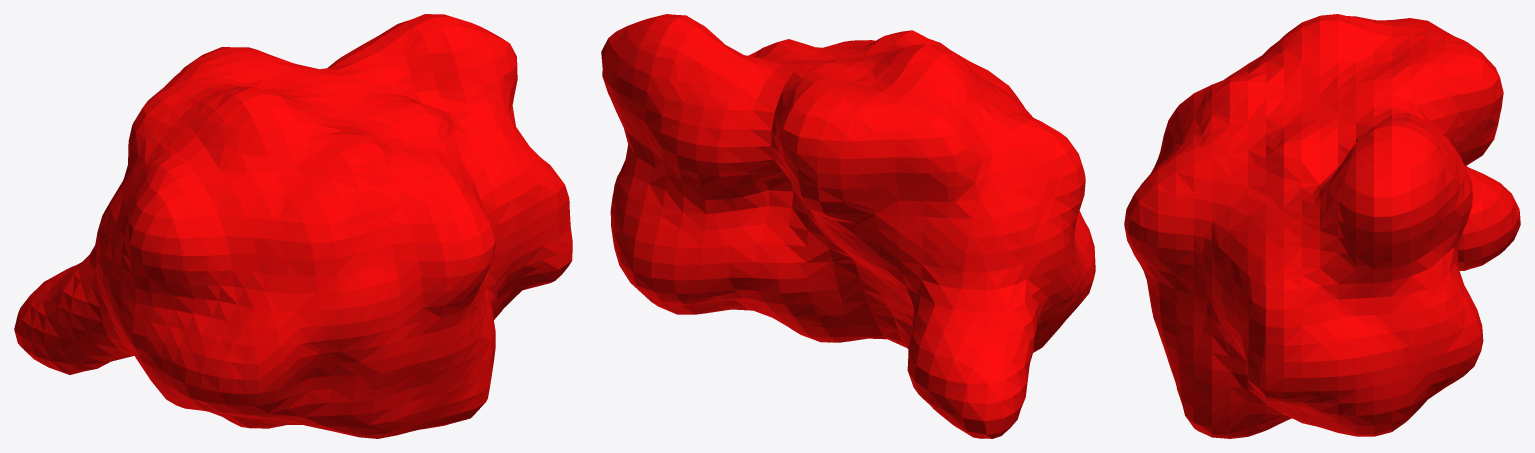
File: ybbA_coarse.dae
The picture shows the model from 3 angles, left to right: view 1: azimuth 30°, elevation 25°; view 2: azimuth 150°, elevation 25°; view 3: azimuth 270°, elevation 25°; orthographic projection. The views are drawn at different scales.
Visible parts, largest first — view 1: ybbA; view 2: ybbA; view 3: ybbA.
Part boxes in pixels (left/top/right/bottom): ybbA: left=14, top=14, right=572, bottom=438; ybbA: left=601, top=14, right=1095, bottom=438; ybbA: left=1124, top=14, right=1520, bottom=438.
Size of the model in its own units: 58.82 by 40.82 by 42.51.
